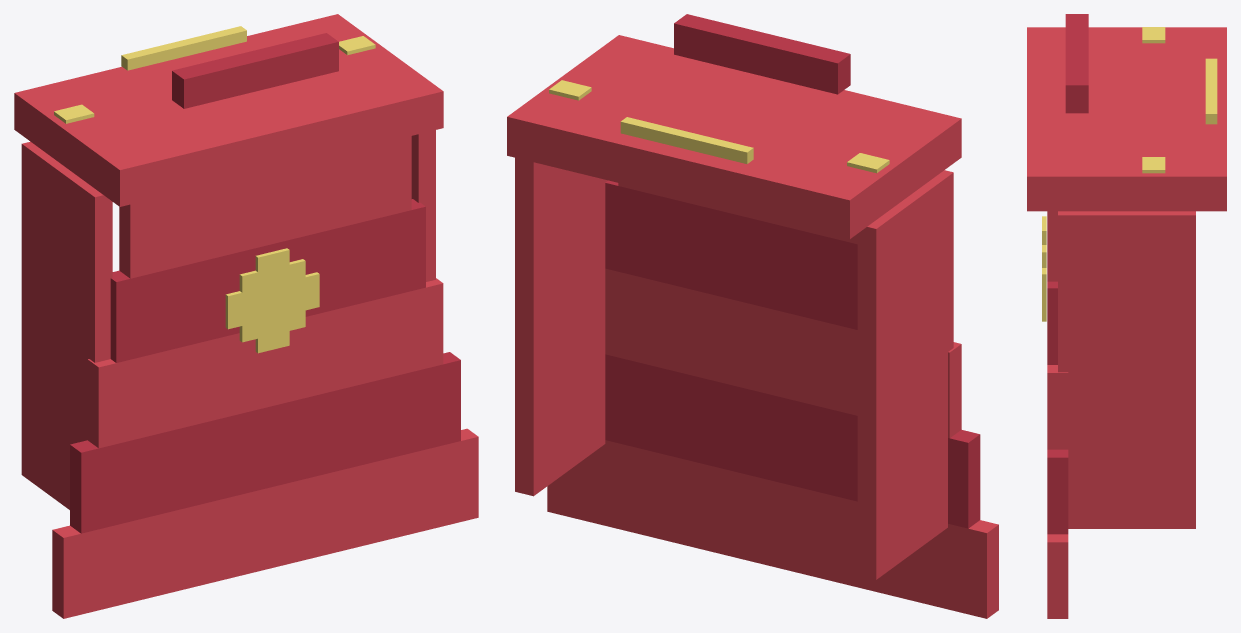
The model's file is capa_super_heroi.glb.
3 views of the same model, side by side, from view 1: azimuth 30°, elevation 25°; view 2: azimuth 150°, elevation 25°; view 3: azimuth 270°, elevation 25° (orthographic). The views are drawn at different scales.
Parts seen in each view (by area): view 1: capa_super_heroi; view 2: capa_super_heroi; view 3: capa_super_heroi.
Boxes of the visible parts, x1=… form: capa_super_heroi: x1=14, y1=14, x2=478, y2=618; capa_super_heroi: x1=507, y1=14, x2=998, y2=618; capa_super_heroi: x1=1027, y1=14, x2=1226, y2=618.
Bounding box in the file's own units: 1.18 × 1.36 × 0.52.
